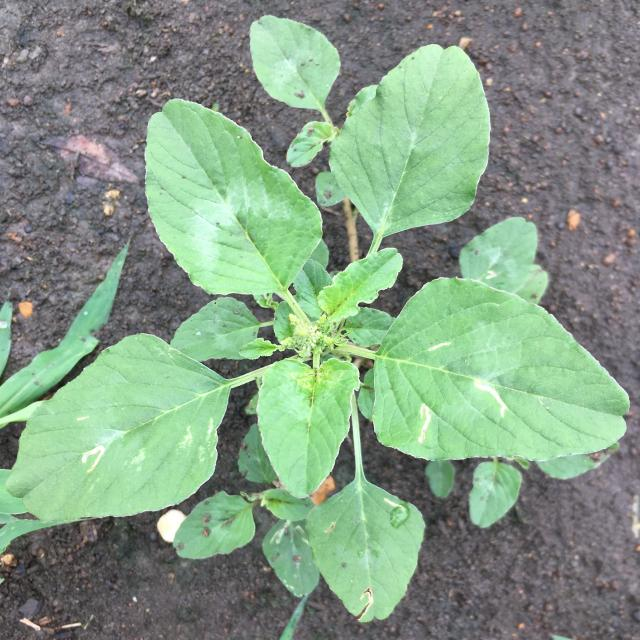PalmerAmaranth: (6, 15, 630, 622)
